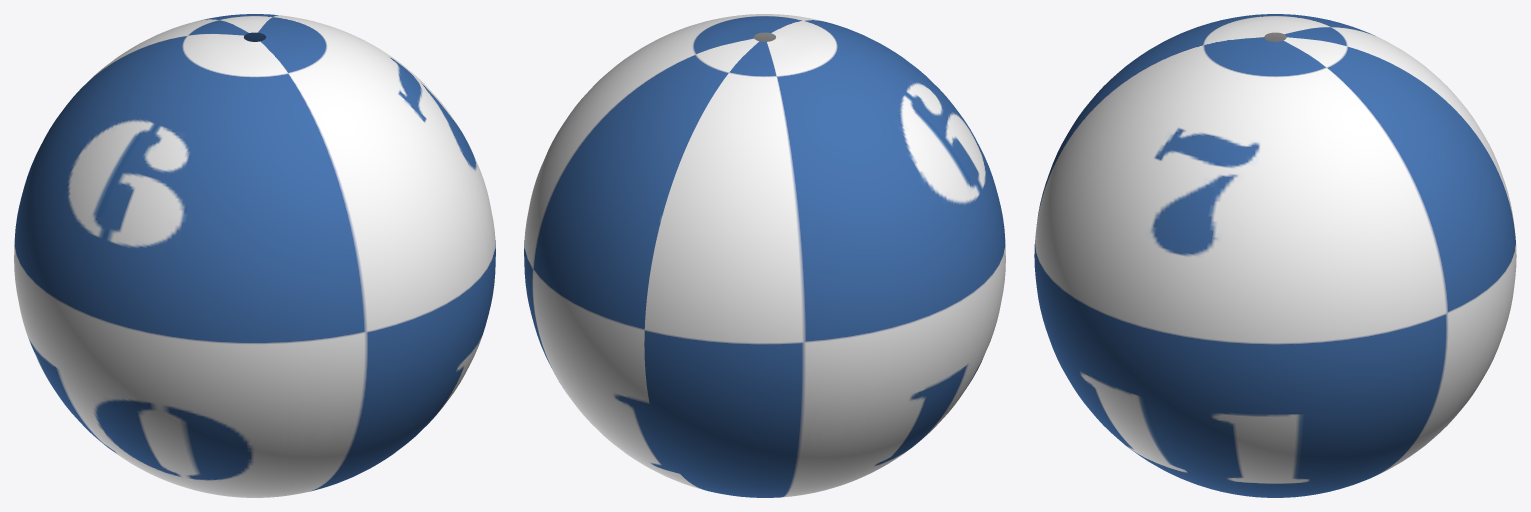
File: Rui_Spl_Sphere01.fbx
The picture shows the model from 3 angles, left to right: view 1: azimuth 30°, elevation 25°; view 2: azimuth 150°, elevation 25°; view 3: azimuth 270°, elevation 25°; orthographic projection.
Visible parts, largest first — view 1: SM_d_e_P1007_V00_C00_SplKrt_Sphere_01; view 2: SM_d_e_P1007_V00_C00_SplKrt_Sphere_01; view 3: SM_d_e_P1007_V00_C00_SplKrt_Sphere_01.
Part boxes in pixels (x1,y1,x2,y2): SM_d_e_P1007_V00_C00_SplKrt_Sphere_01: (14,14,495,497); SM_d_e_P1007_V00_C00_SplKrt_Sphere_01: (524,14,1005,497); SM_d_e_P1007_V00_C00_SplKrt_Sphere_01: (1034,14,1516,497).
Bounding box in the file's own units: 179 × 179 × 179.
